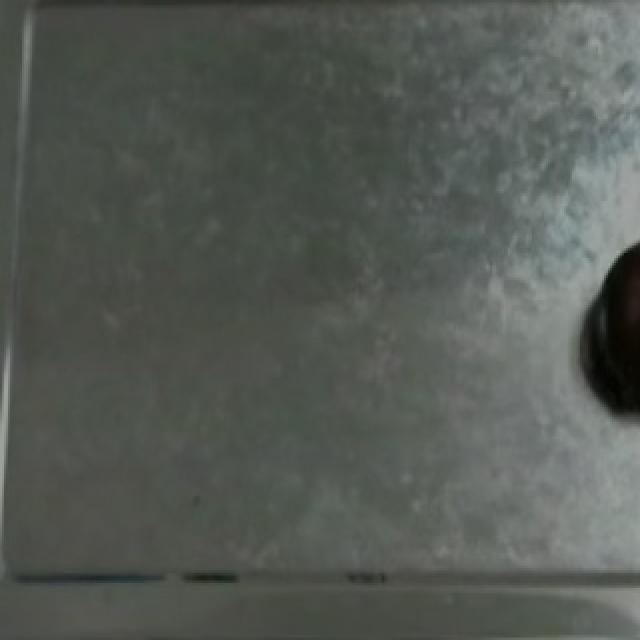Fruit: (574, 221, 640, 407)
